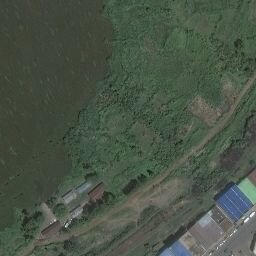tree: (122, 179, 137, 194), (52, 203, 67, 216), (233, 39, 246, 50), (62, 240, 74, 251), (102, 191, 114, 202), (32, 211, 43, 222), (137, 174, 147, 183), (146, 169, 155, 176)
